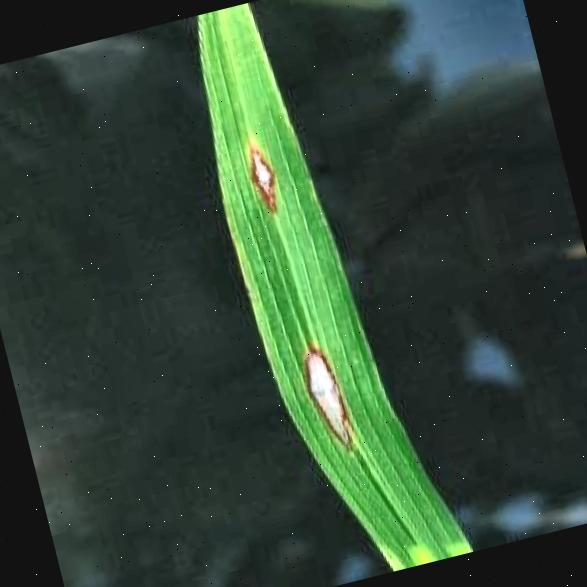Leaf_smut: (284, 325, 360, 456), (229, 134, 292, 220)
